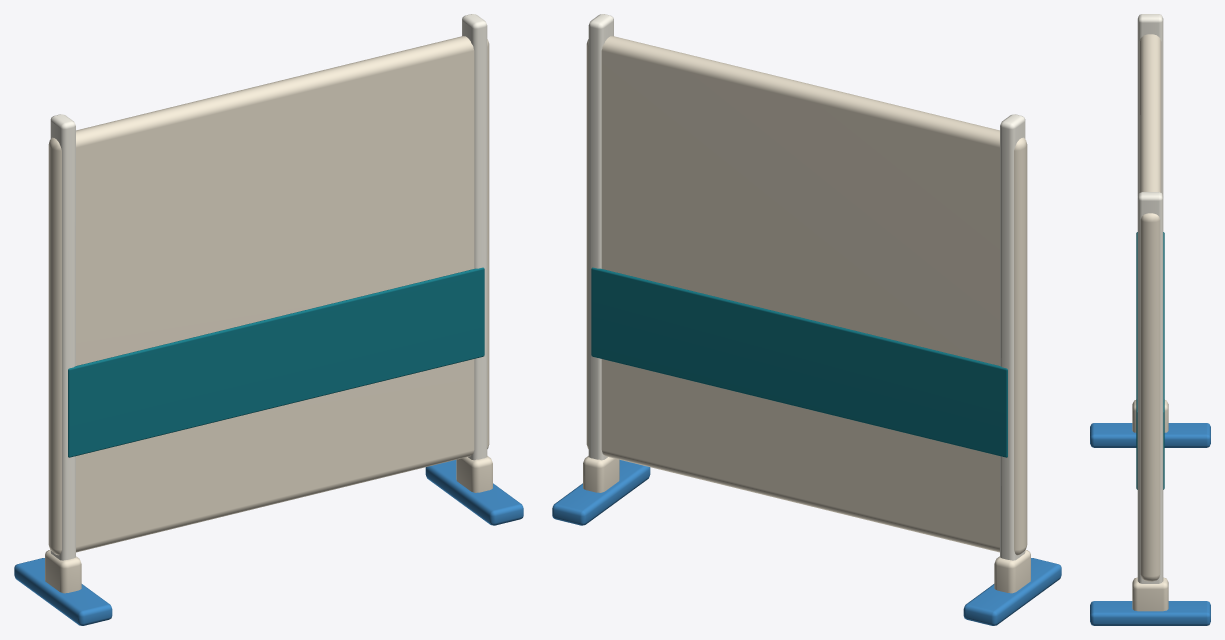
File: Assessment_Privacy_Divider.glb
3 views of the same model, side by side, from view 1: azimuth 30°, elevation 25°; view 2: azimuth 150°, elevation 25°; view 3: azimuth 270°, elevation 25° (orthographic). The views are drawn at different scales.
Parts seen in each view (by area): view 1: Assessment_Privacy_Divider__Visual; view 2: Assessment_Privacy_Divider__Visual; view 3: Assessment_Privacy_Divider__Visual.
Boxes of the visible parts, x1,y1,x2,y2 form: Assessment_Privacy_Divider__Visual: (14, 14, 523, 625); Assessment_Privacy_Divider__Visual: (552, 14, 1061, 625); Assessment_Privacy_Divider__Visual: (1090, 14, 1210, 625).
Bounding box in the file's own units: 1.51 × 1.56 × 0.4.
1 material, 1 textured.
